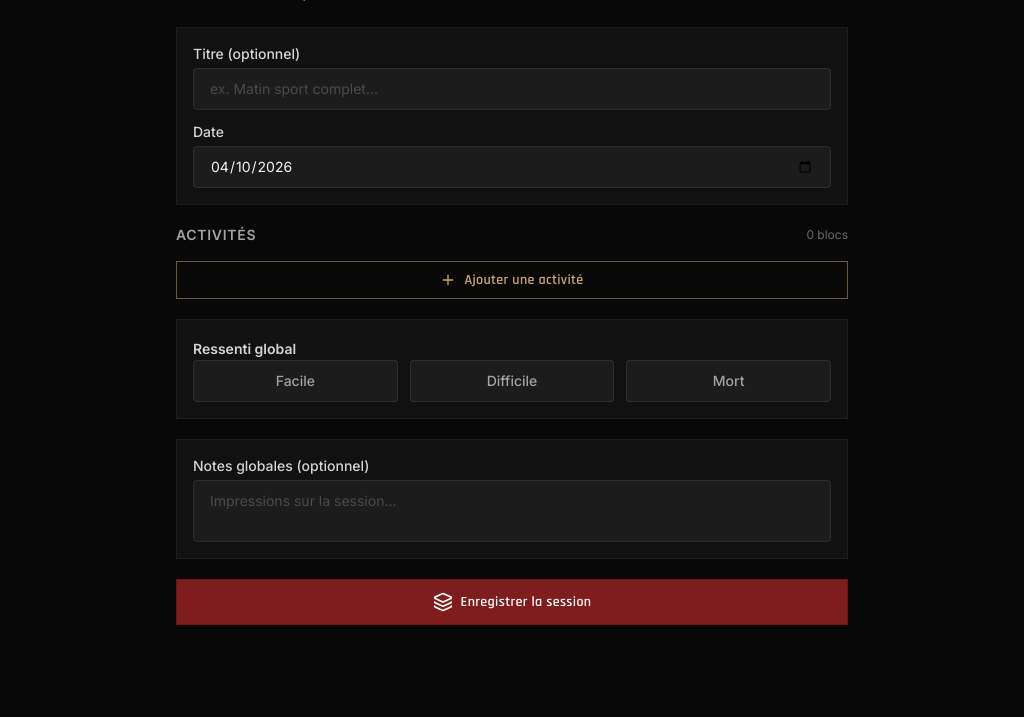
Test: HybridSessionPage › XP preview › affiche le bonus hybride après ajout de 2 blocs
Note: Add bloc 1
Click the button "Ajouter une activité": point(512, 280) [176,261,848,299]
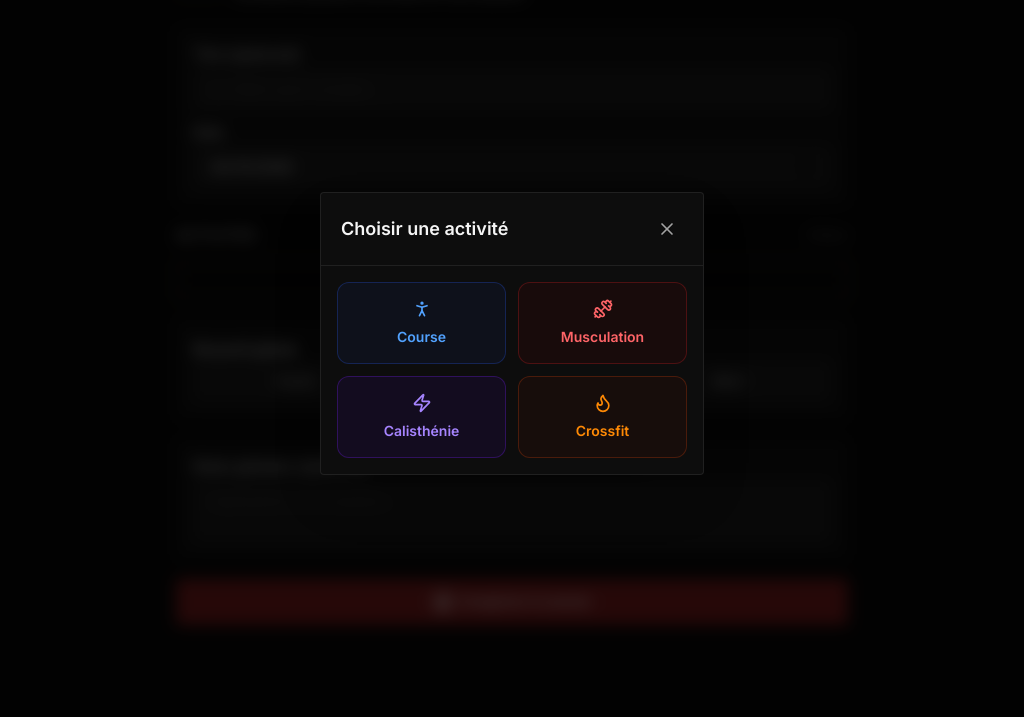
Click the button "Course": point(422, 322) [337,282,506,364]
(page scrolled)
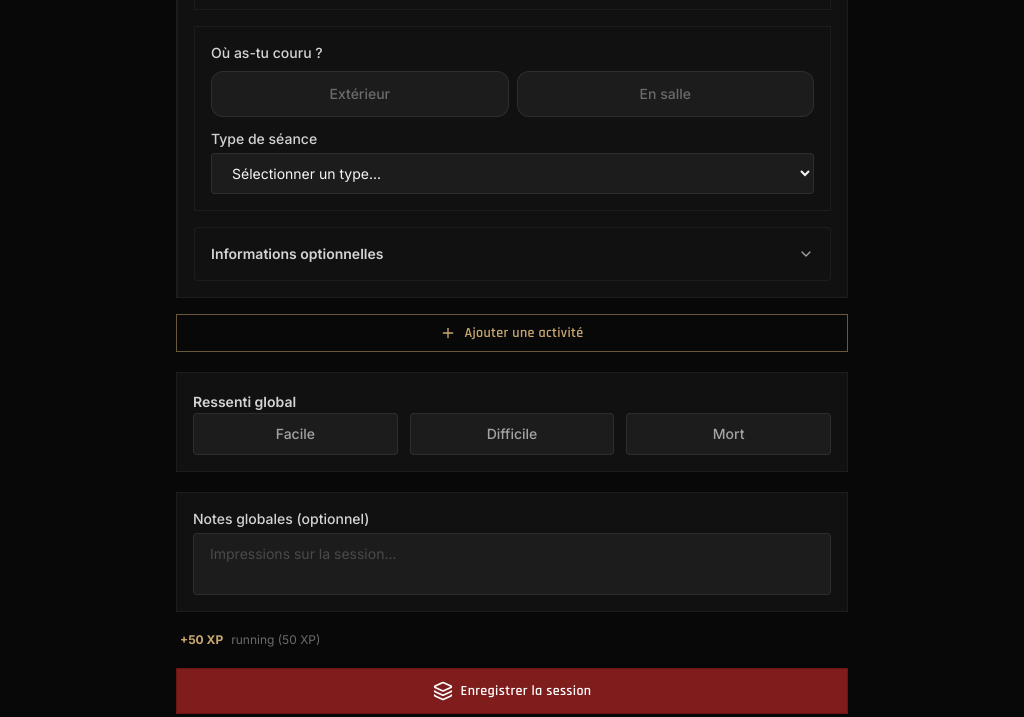
Note: Add bloc 2
Click the button "Ajouter une activité": point(512, 333) [176,314,848,352]
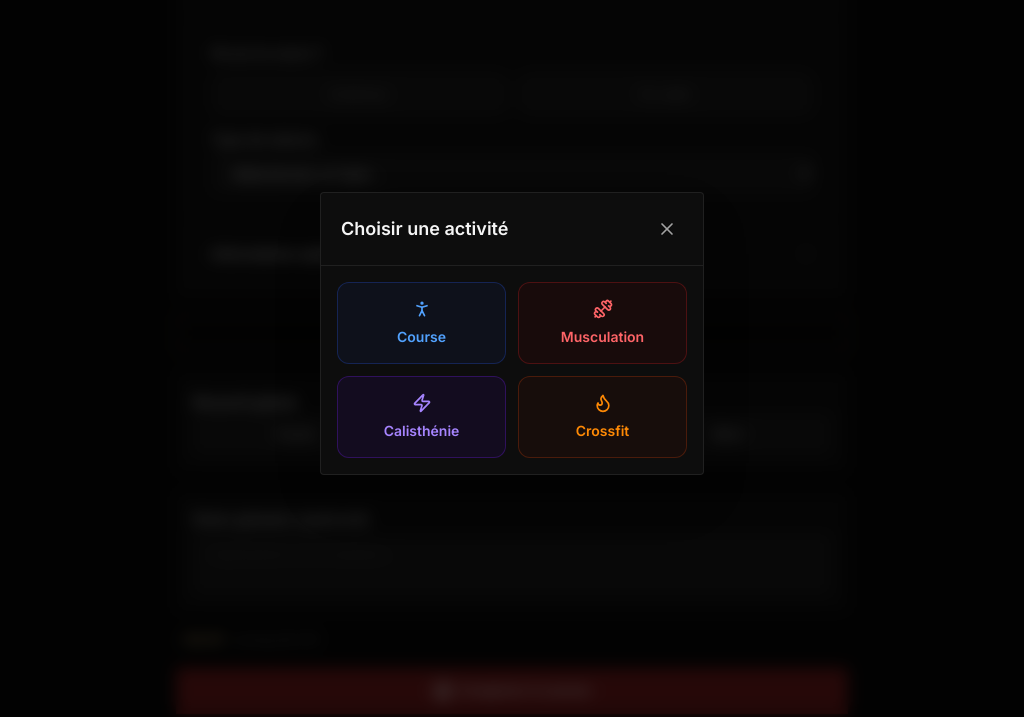
Result: the text "Musculation" is shown at [561,326,644,346]
Click the button "Musculation": point(602, 322) [518,282,687,364]
(page scrolled)
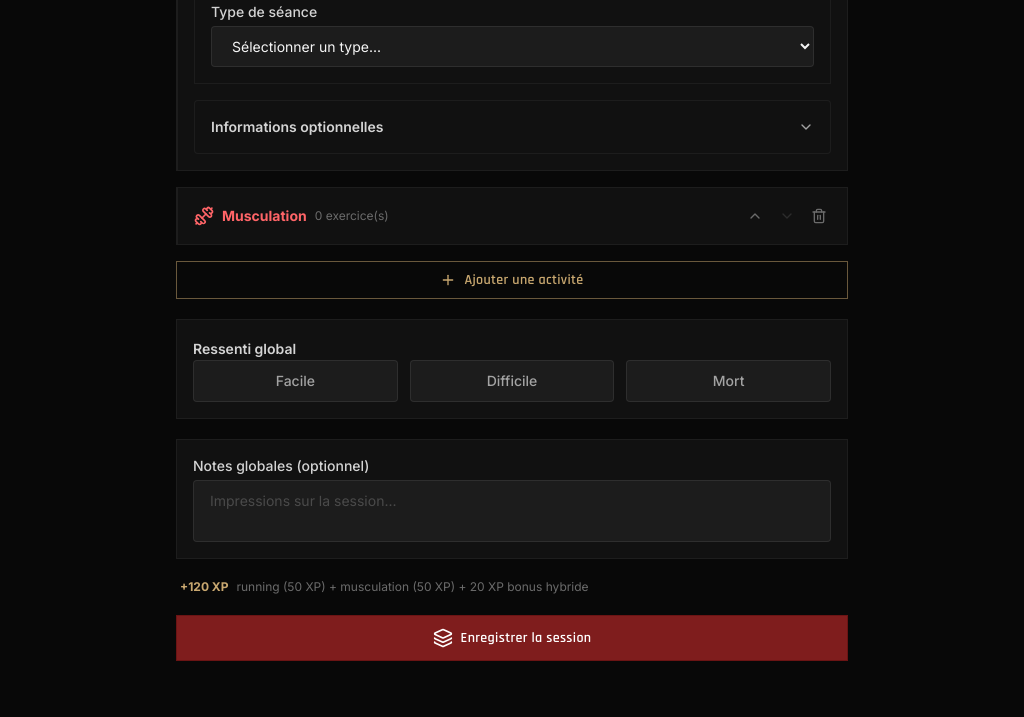
Result: the text "running (50 XP) + musculation (50 XP) + 20 XP bonus hybride" is shown at [236,579,589,595]
